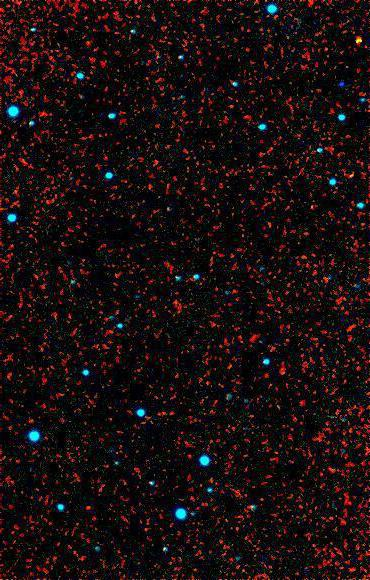star: (347, 26, 370, 56)
